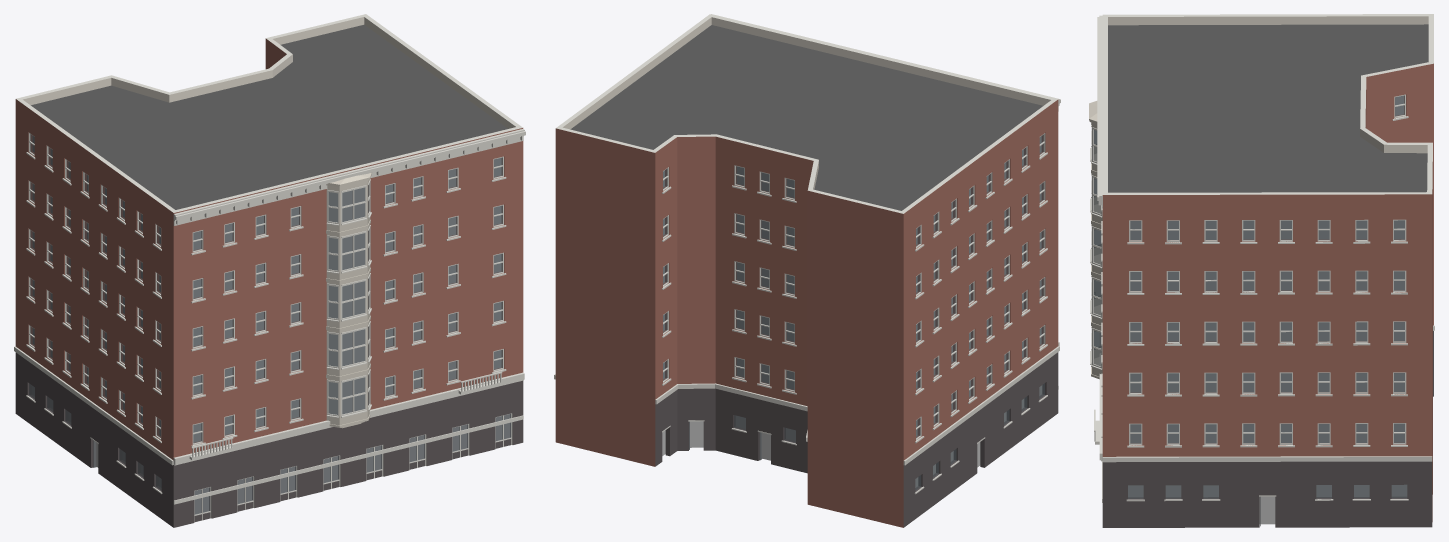
The model's file is exterior.glb.
3 renders of one model, left to right at view 1: azimuth 30°, elevation 25°; view 2: azimuth 150°, elevation 25°; view 3: azimuth 270°, elevation 25°, orthographic. The views are drawn at different scales.
Visible parts, largest first — view 1: shell, roof, shadow-proxy, glazing, trim, frames, bay-glazing-hyb, hand-ornament, bay-windows-hyb, storefront; view 2: shell, roof, glazing, frames, trim, shadow-proxy; view 3: shell, roof, glazing, shadow-proxy, frames, trim, bay-glazing-hyb, bay-windows-hyb, hand-ornament.
Boxes of the visible parts, x1,y1,x2,y2 form: shell: (15, 14, 523, 527); roof: (31, 25, 507, 209); shadow-proxy: (32, 136, 509, 513); glazing: (29, 134, 510, 514); trim: (14, 129, 525, 493); frames: (28, 132, 503, 444); bay-glazing-hyb: (326, 179, 371, 417); hand-ornament: (173, 371, 524, 504); bay-windows-hyb: (326, 173, 371, 428); storefront: (90, 413, 512, 522); shell: (555, 14, 1058, 527); roof: (570, 25, 1042, 210); glazing: (663, 134, 1044, 490); frames: (663, 133, 1045, 440); trim: (554, 14, 1060, 494); shadow-proxy: (662, 136, 1041, 487); shell: (1102, 14, 1433, 527); roof: (1108, 24, 1428, 192); glazing: (1128, 95, 1407, 498); shadow-proxy: (1128, 96, 1406, 524); frames: (1129, 94, 1406, 445); trim: (1097, 15, 1434, 501); bay-glazing-hyb: (1090, 122, 1102, 369); bay-windows-hyb: (1089, 101, 1102, 379); hand-ornament: (1094, 282, 1102, 502).
Bounding box in the file's own units: 27.61 × 23.47 × 22.1.
